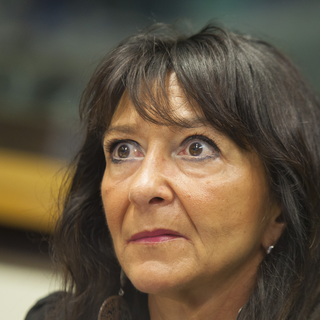eye: (168, 132, 222, 166), (100, 138, 154, 165)
